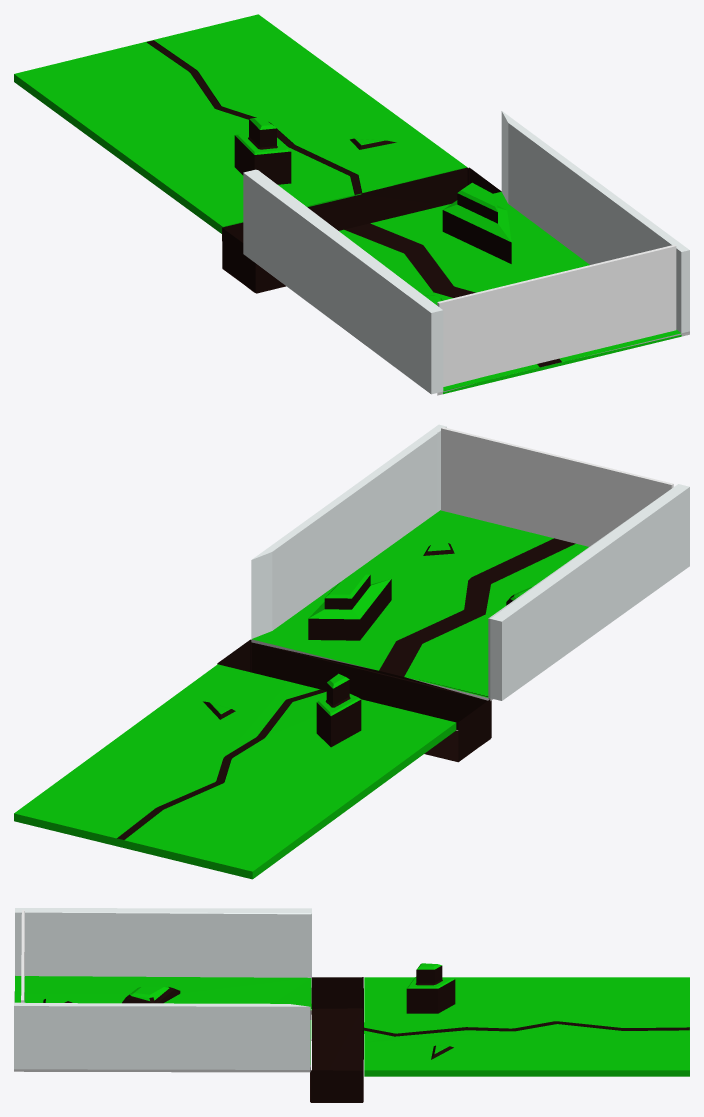
File: GameStage(1).obj
The picture shows the model from 3 angles, top to bottom: view 1: azimuth 30°, elevation 25°; view 2: azimuth 150°, elevation 25°; view 3: azimuth 270°, elevation 25°; orthographic projection. The views are drawn at different scales.
Visible parts, largest first — view 1: Cube.001, Cube, 立方体, Plane.002, Plane.005, Plane.003; view 2: Cube, Cube.001, 立方体, Plane, Plane.005; view 3: Cube, Cube.001, Plane.001, Plane.004, Plane.005, 立方体.
Boxes of the visible parts, box(x1,y1,x2,y2) form: Cube.001: box(14, 14, 467, 233); Cube: box(243, 111, 689, 394); 立方体: box(437, 244, 676, 386); Plane.002: box(222, 167, 468, 268); Plane.005: box(222, 228, 255, 292); Plane.003: box(437, 333, 689, 395); Cube: box(251, 424, 689, 700); Cube.001: box(14, 664, 456, 879); 立方体: box(441, 427, 673, 546); Plane: box(251, 642, 491, 737); Plane.005: box(458, 699, 491, 761); Cube: box(14, 908, 311, 1072); Cube.001: box(364, 963, 689, 1076); Plane.001: box(312, 1008, 362, 1070); Plane.004: box(311, 1070, 362, 1102); Plane.005: box(311, 977, 362, 1008); 立方体: box(21, 910, 24, 1002).
Size of the model in its own units: 310 by 143 by 892.
